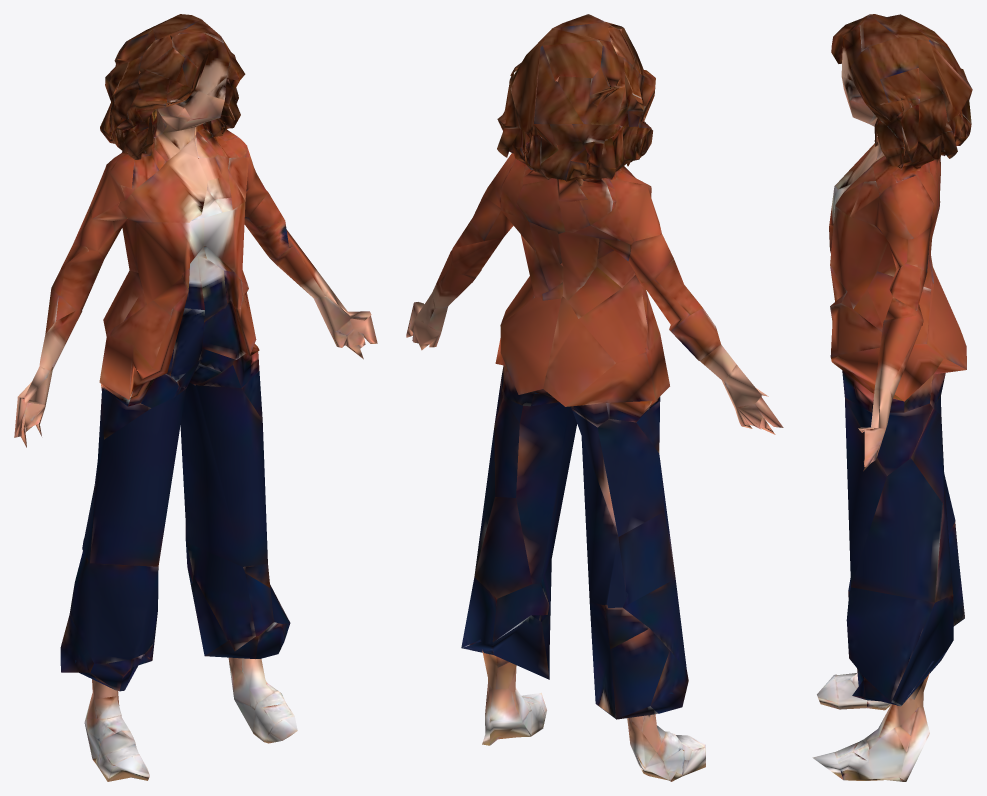
Rendered from woman.glb.
3 renders of one model, left to right at view 1: azimuth 30°, elevation 25°; view 2: azimuth 150°, elevation 25°; view 3: azimuth 270°, elevation 25°, orthographic. The views are drawn at different scales.
Visible parts, largest first — view 1: woman; view 2: woman; view 3: woman.
Part boxes in pixels (left/top/right/bottom): woman: left=14, top=14, right=377, bottom=781; woman: left=406, top=14, right=783, bottom=781; woman: left=812, top=14, right=972, bottom=781.
Size of the model in its own units: 0.9016 by 1.69 by 0.3419.
1 material, 1 textured.
